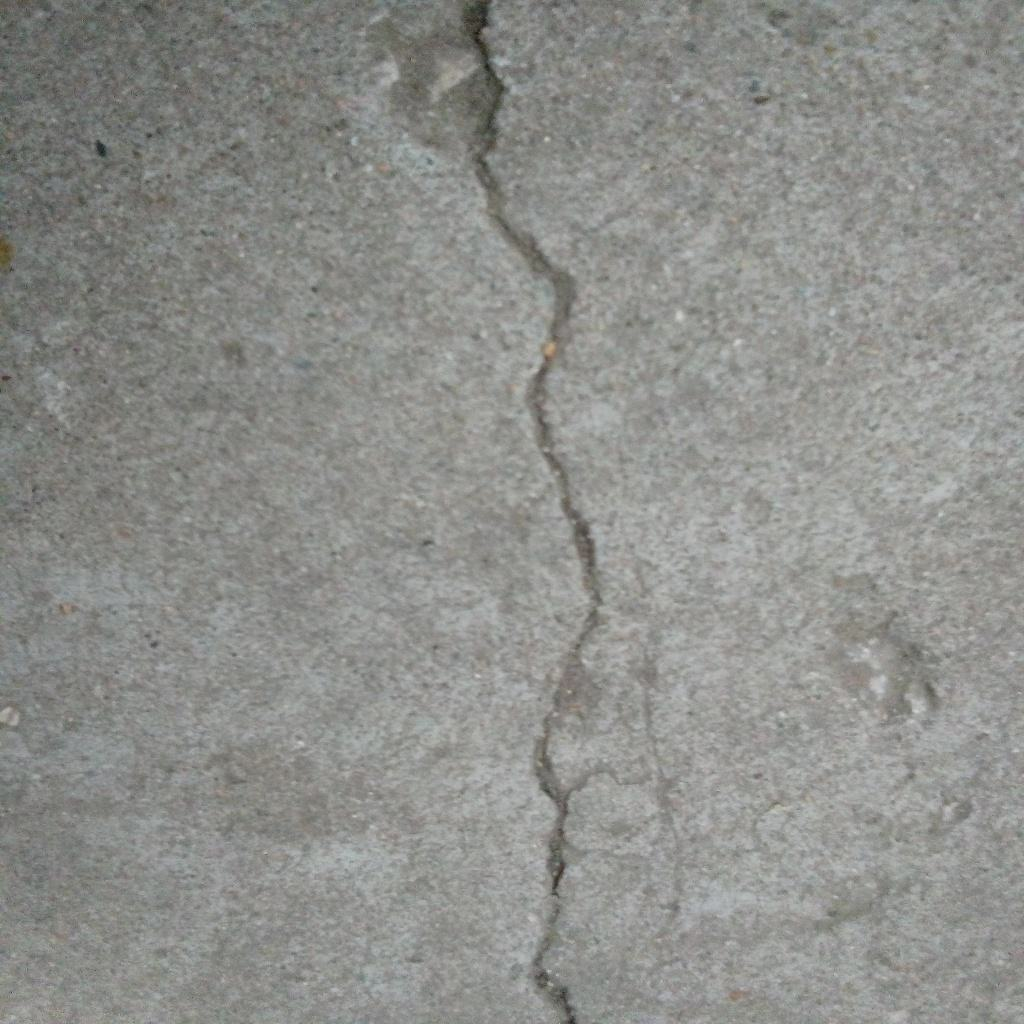Crack: (468, 1, 606, 1024)
